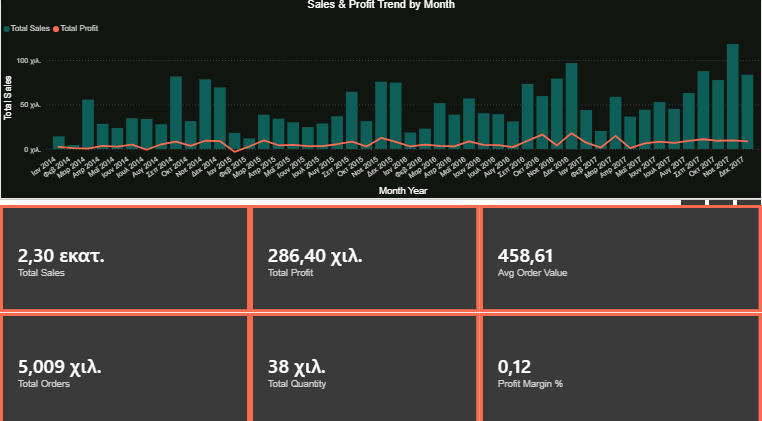

This screenshot's page, from the dashboard's own definition file:
{"tool":"powerbi","page":{"name":"Σελίδα 1","canvas":[1280,720],"ordinal":0},"visuals":[{"type":"lineStackedColumnComboChart","title":"Sales & Profit Trend by Month","fields":{"Category":["Calendar.Month Year"],"Y":["SuperstoreData.Total Sales"],"Y2":["SuperstoreData.Total Profit"]},"box":[0,0,1280.2,338.4],"z":0},{"type":"cardVisual","fields":{"Data":["SuperstoreData.Total Sales"]},"box":[0,348.5,420.5,180],"z":1000},{"type":"cardVisual","fields":{"Data":["SuperstoreData.Total Orders"]},"box":[0,528.5,420.5,191.5],"z":2000},{"type":"cardVisual","fields":{"Data":["SuperstoreData.Total Profit"]},"box":[420.5,348.5,385.9,180],"z":3000},{"type":"cardVisual","fields":{"Data":["SuperstoreData.Total Quantity"]},"box":[420.5,528.5,385.9,191.5],"z":4000},{"type":"cardVisual","fields":{"Data":["SuperstoreData.Avg Order Value"]},"box":[806.4,348.5,473.8,180],"z":5000},{"type":"cardVisual","fields":{"Data":["SuperstoreData.Profit Margin %"]},"box":[806.4,528.5,473.8,191.5],"z":6000}]}

Visuals, with their boxes in screenshot pixels (x1, y1, x2, y2), scaled from the page's 1280x720 canvas onto the 762x421 screenshot:
"Sales & Profit Trend by Month" lineStackedColumnComboChart: <box>0,0,761,198</box>
cardVisual - SuperstoreData.Total Sales: <box>0,204,250,309</box>
cardVisual - SuperstoreData.Total Orders: <box>0,309,250,420</box>
cardVisual - SuperstoreData.Total Profit: <box>250,204,480,309</box>
cardVisual - SuperstoreData.Total Quantity: <box>250,309,480,420</box>
cardVisual - SuperstoreData.Avg Order Value: <box>480,204,761,309</box>
cardVisual - SuperstoreData.Profit Margin %: <box>480,309,761,420</box>
